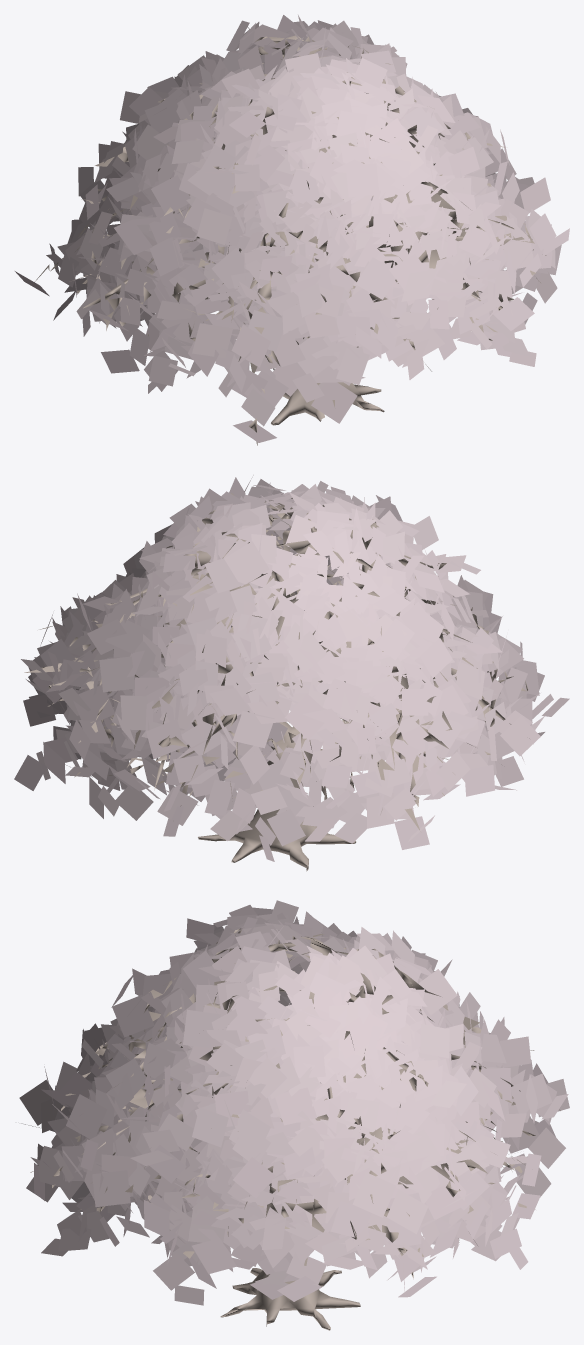
The model's file is sakura_lod.glb.
The picture shows the model from 3 angles, top to bottom: view 1: azimuth 30°, elevation 25°; view 2: azimuth 150°, elevation 25°; view 3: azimuth 270°, elevation 25°; orthographic projection. The views are drawn at different scales.
Parts seen in each view (by area): view 1: LOD0; view 2: LOD0; view 3: LOD0.
Part boxes in pixels (x1,y1,x2,y2): LOD0: [15, 15, 569, 445]; LOD0: [14, 475, 569, 871]; LOD0: [19, 900, 569, 1330].
Size of what is drawn, in the model's own units: 10.42 by 7.48 by 10.31.
